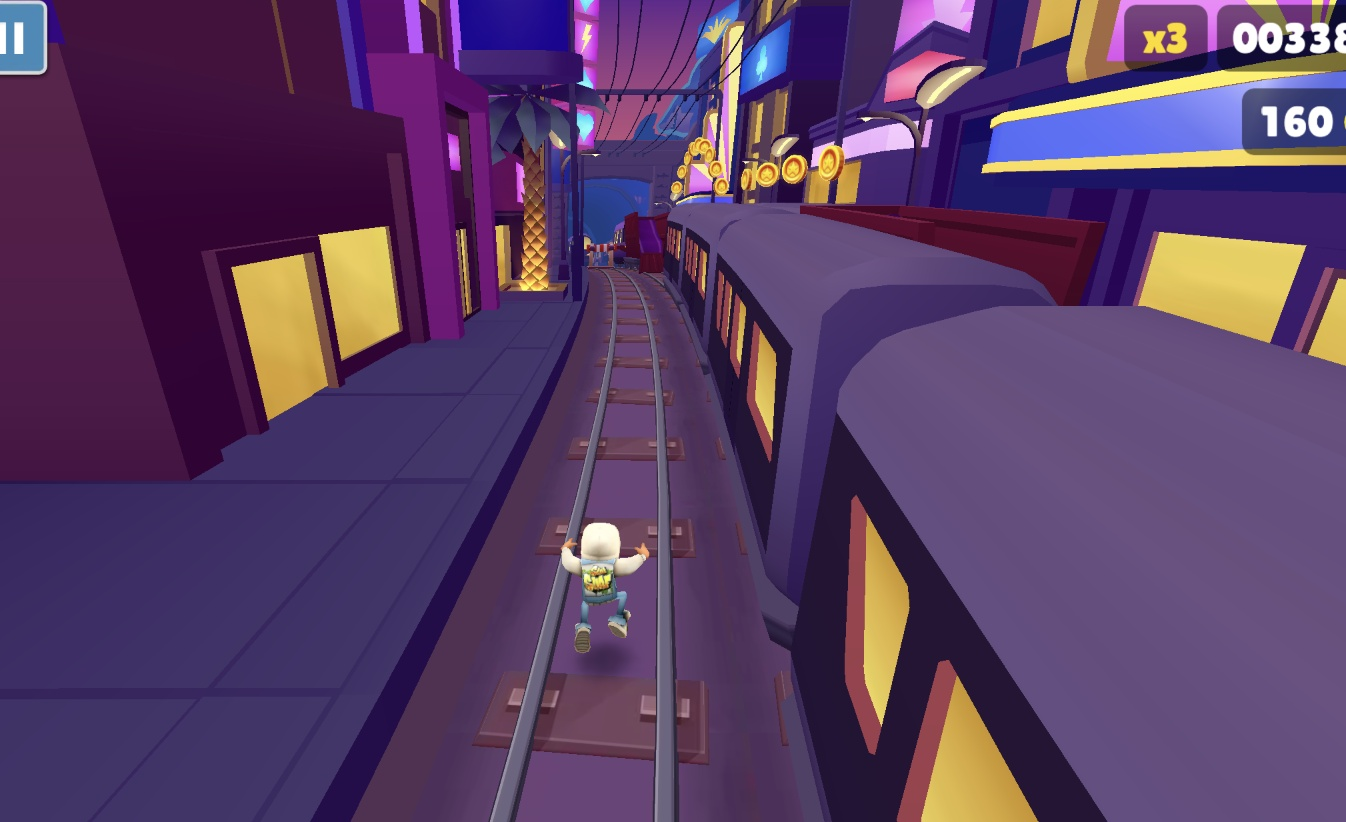ground_barrier: (587, 245, 625, 271)
train: (661, 202, 1346, 822), (749, 204, 1120, 305), (624, 212, 665, 273), (584, 235, 595, 260)
